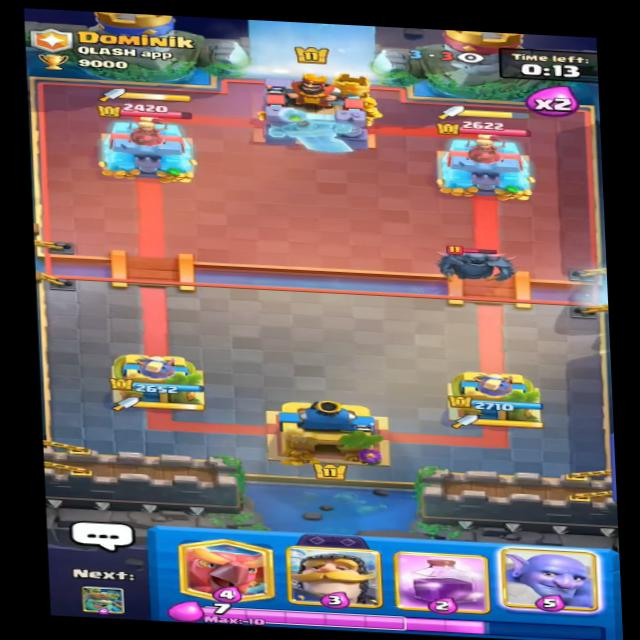pekka: (431, 241, 520, 286)
